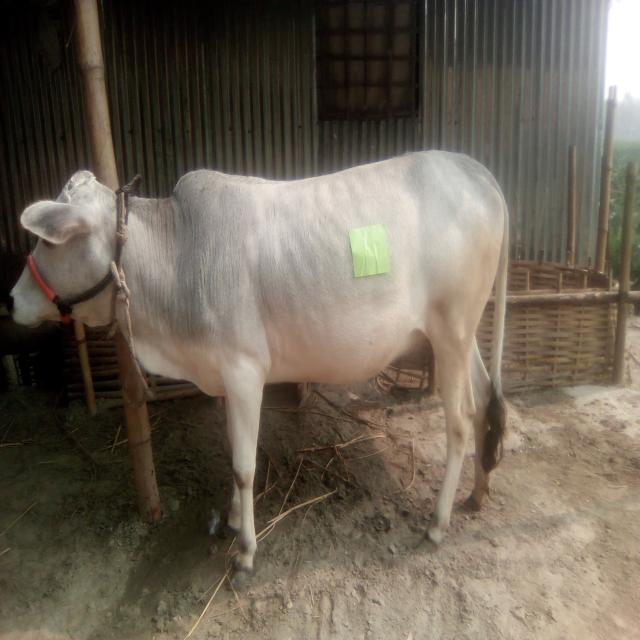badan_sapi: (187, 161, 503, 392)
sapi: (0, 135, 517, 595)
